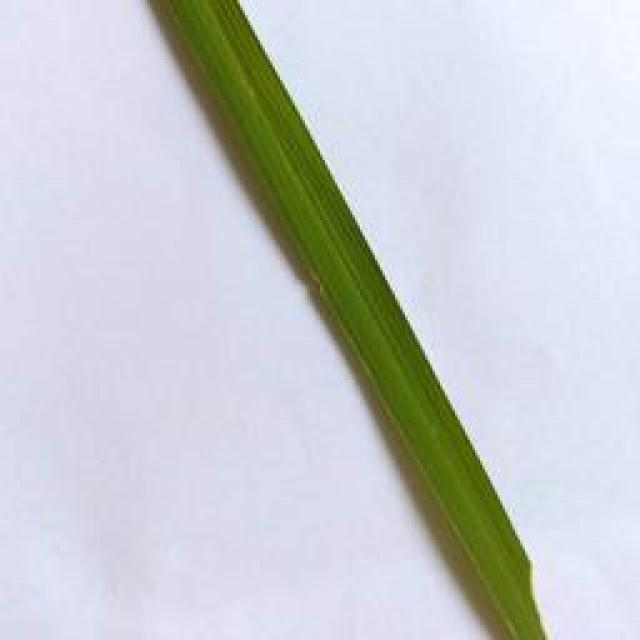Bacterial_Blight: (507, 557, 559, 640)
